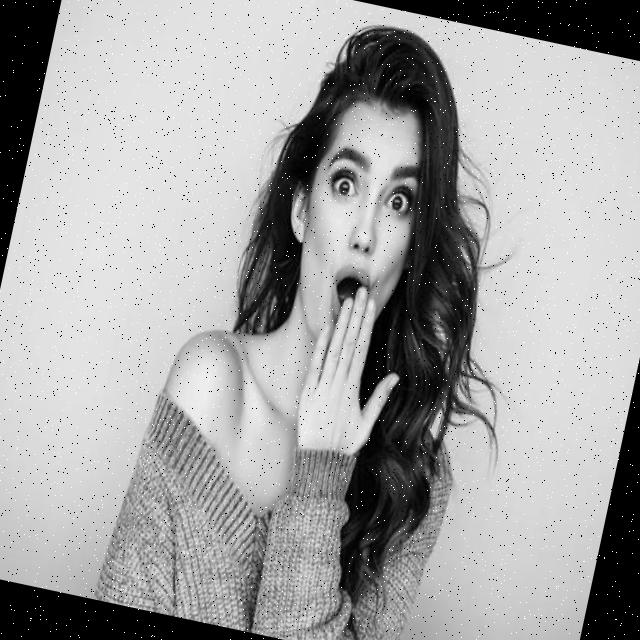Surprised: (284, 87, 438, 360)
